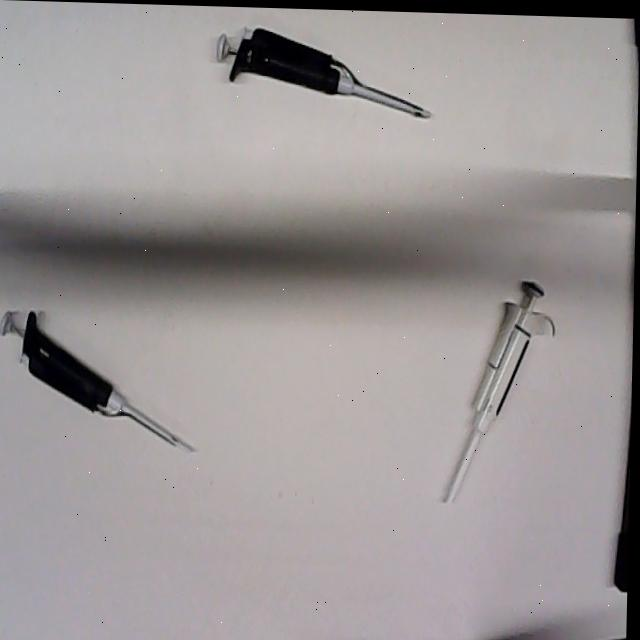Single Channel Pipettor: (0, 301, 198, 454), (445, 271, 561, 506), (216, 20, 435, 117)
